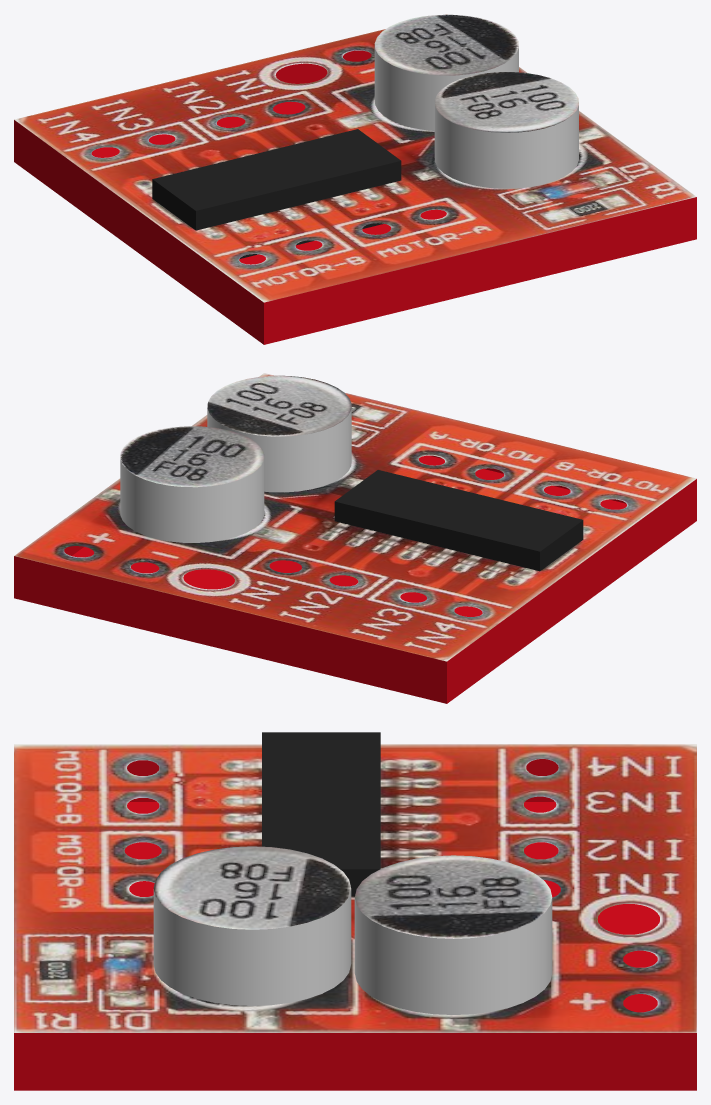
The model's file is Driver.fbx.
3 renders of one model, top to bottom at view 1: azimuth 30°, elevation 25°; view 2: azimuth 150°, elevation 25°; view 3: azimuth 270°, elevation 25°, orthographic. The views are drawn at different scales.
Visible parts, largest first — view 1: Cube; view 2: Cube; view 3: Cube.
Boxes of the visible parts, x1=… form: Cube: x1=14, y1=14, x2=696, y2=344; Cube: x1=14, y1=373, x2=696, y2=703; Cube: x1=14, y1=732, x2=696, y2=1090.
Bounding box in the file's own units: 200 × 43.3 × 200.
Materials: 4 (1 with a texture image).
